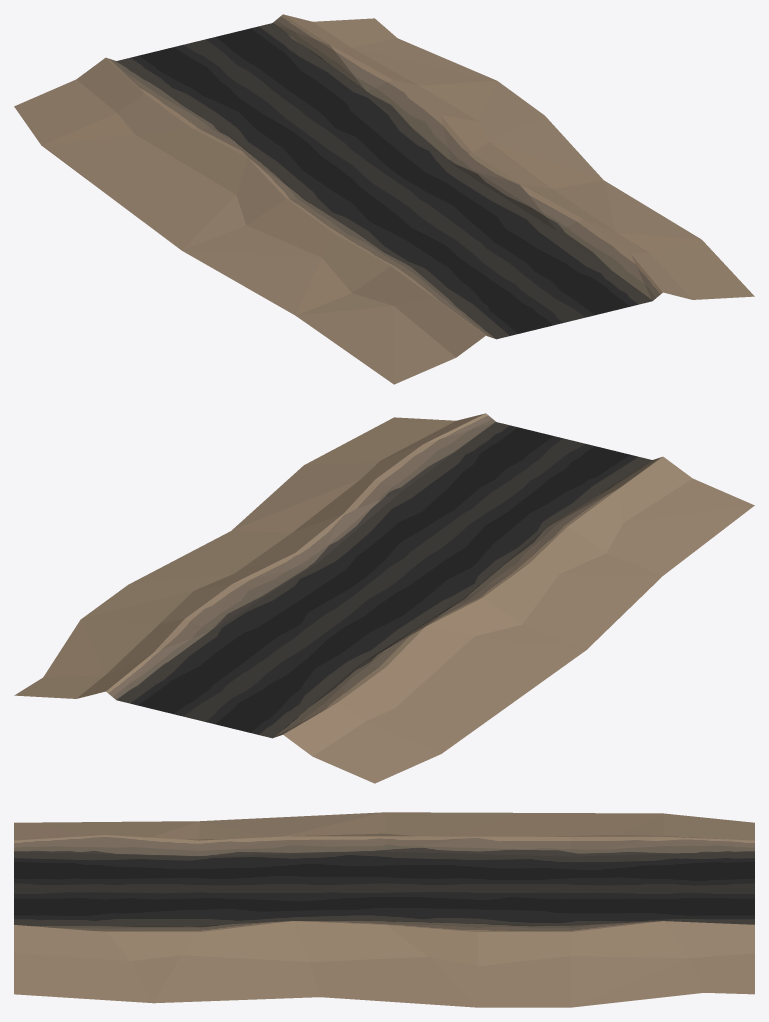
File: SM_Env_Road_02.glb
The picture shows the model from 3 angles, top to bottom: view 1: azimuth 30°, elevation 25°; view 2: azimuth 150°, elevation 25°; view 3: azimuth 270°, elevation 25°; orthographic projection. The views are drawn at different scales.
Parts seen in each view (by area): view 1: SM_Env_Road_02; view 2: SM_Env_Road_02; view 3: SM_Env_Road_02.
Part boxes in pixels (bbox=[...]): SM_Env_Road_02: bbox=[14, 14, 754, 384]; SM_Env_Road_02: bbox=[14, 413, 754, 783]; SM_Env_Road_02: bbox=[14, 812, 754, 1007].
Size of the model in its own units: 15.6 by 1.1 by 25.
Materials: 1 (1 with a texture image).
